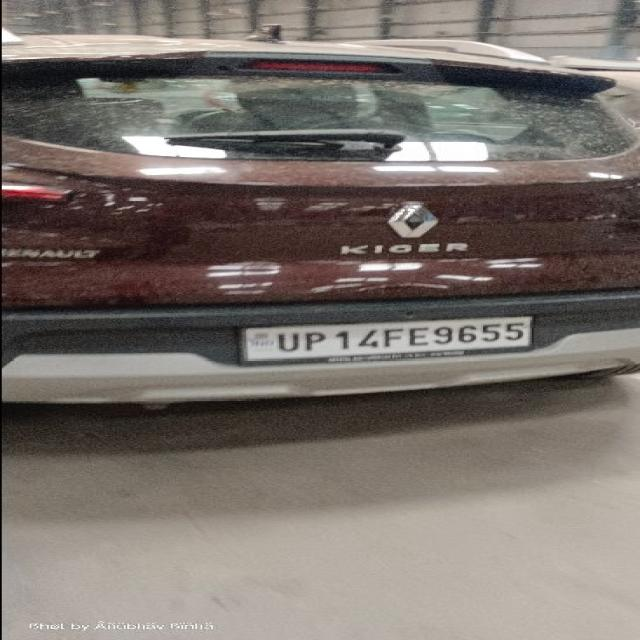license_plate: (235, 314, 536, 364)
